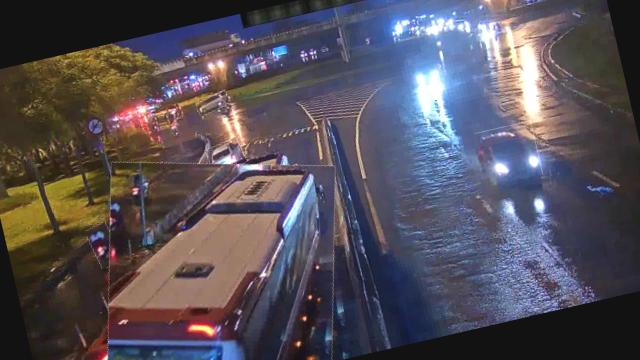Bike: (87, 222, 122, 270), (108, 187, 140, 226)
Bus: (72, 128, 366, 360)
Car: (474, 120, 544, 188), (205, 138, 248, 175), (194, 90, 232, 115)
